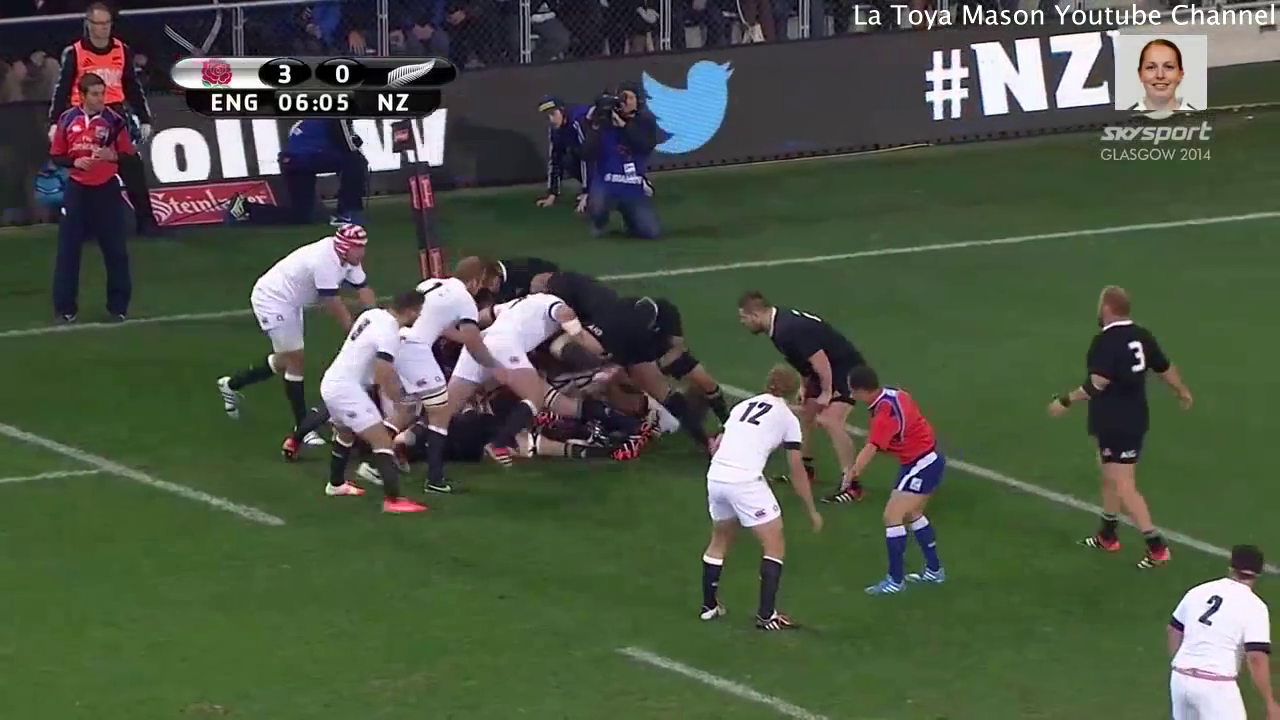player: (1043, 282, 1211, 582), (214, 222, 392, 456), (353, 253, 494, 500), (697, 360, 820, 634), (730, 281, 867, 517), (313, 282, 434, 528), (835, 363, 953, 599), (433, 288, 564, 463), (1157, 536, 1280, 720), (624, 295, 727, 418)
ruck: (373, 241, 718, 457)
